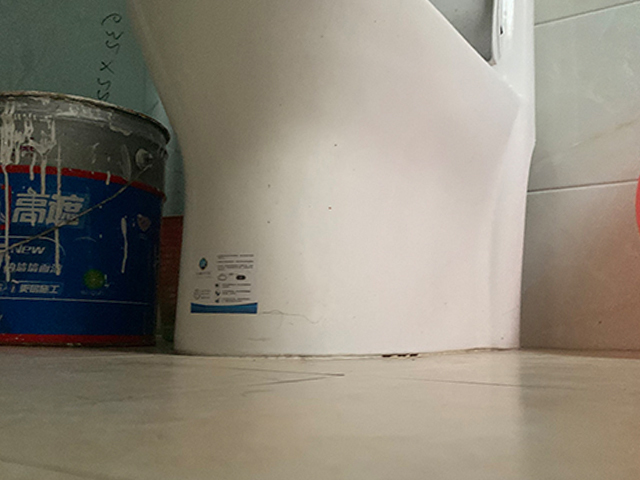closestool: (132, 1, 538, 359)
